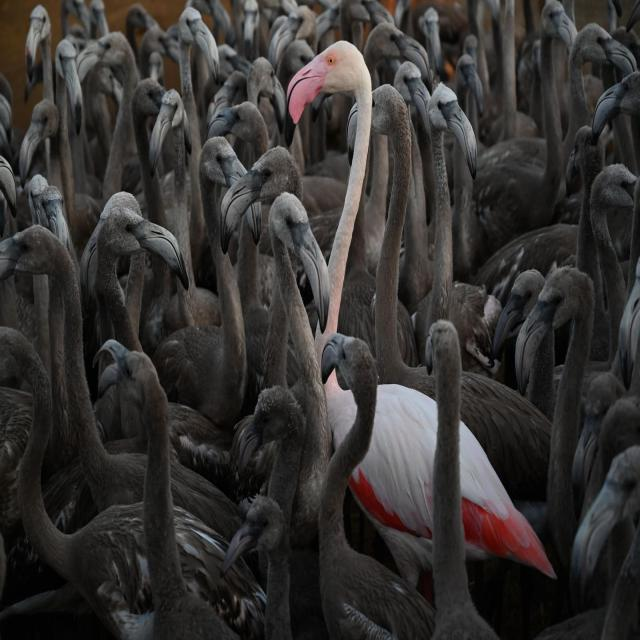Flamingo: (286, 38, 556, 588)
